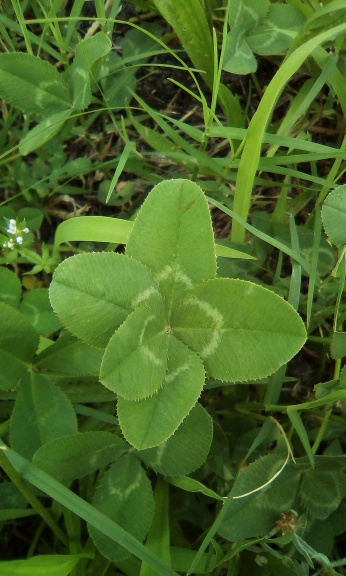4leaf: (48, 178, 309, 450)
